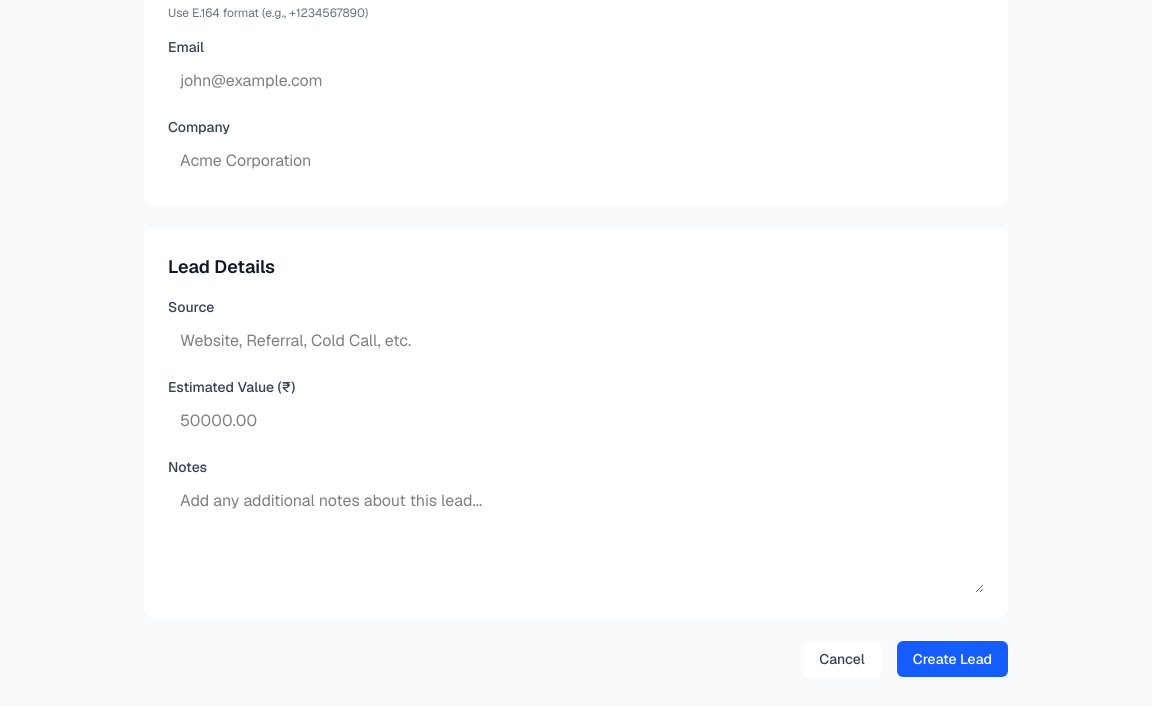
Test: NewLeadPage › Form Validation › should display validation errors for required fields
The width and height of the screenshot is (1152, 706).
(page scrolled)
Click the button "Create Lead" at x=952, y=659, box 897,641 -> 1008,677
(page scrolled)
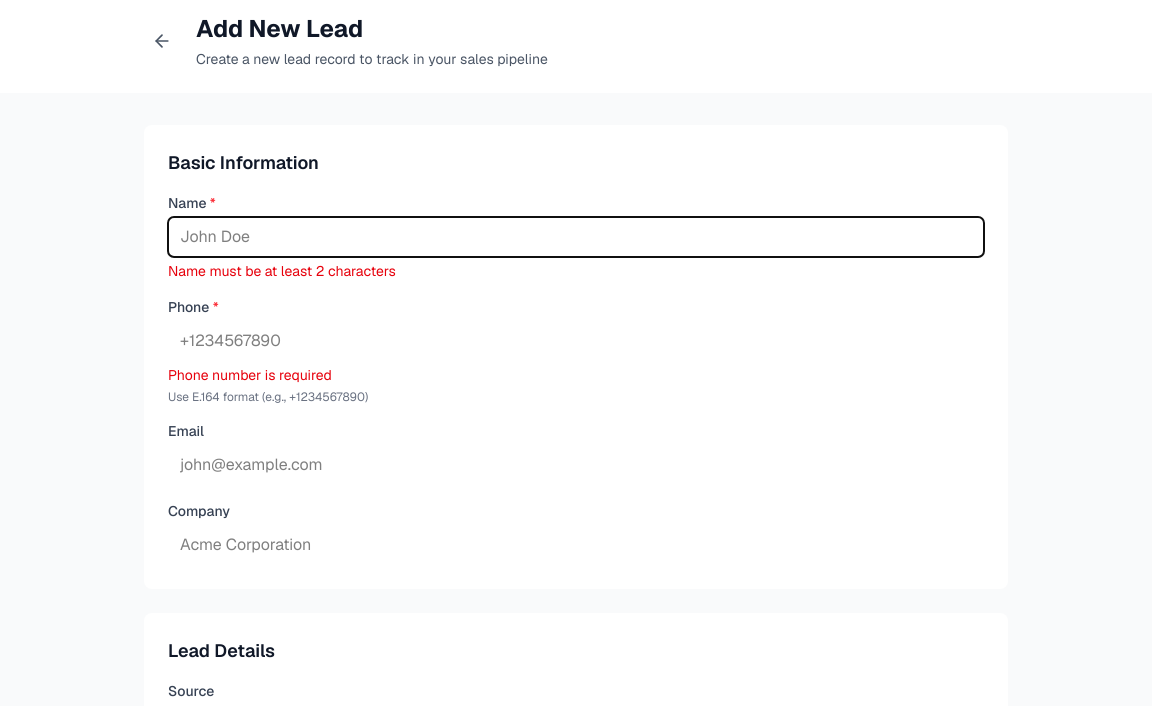
Expected: the text "Name must be at least 2 characters" is shown, 168,262 -> 396,280
Expected: the text "Phone number is required" is shown, 168,366 -> 332,384
